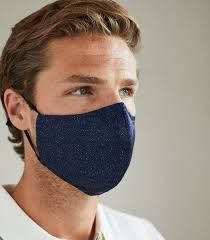with-mask: (11, 19, 144, 196)
